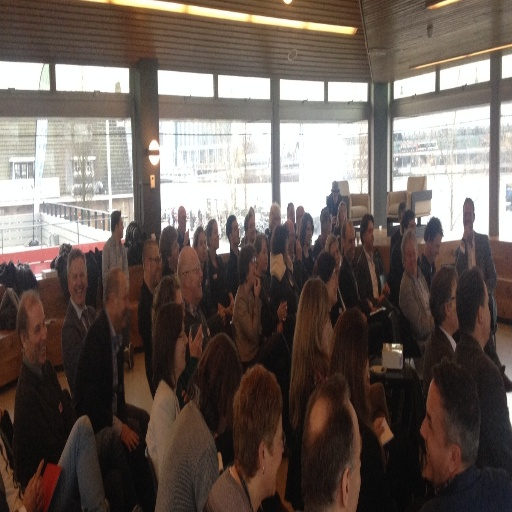hand: (21, 456, 45, 510), (189, 322, 203, 362), (120, 425, 139, 453), (373, 416, 384, 447), (34, 476, 44, 510), (462, 220, 473, 248), (277, 301, 287, 325), (253, 273, 261, 299), (217, 307, 226, 328), (381, 281, 391, 299), (295, 239, 302, 264), (286, 254, 294, 273), (180, 388, 188, 405), (227, 295, 233, 315), (183, 228, 190, 244), (376, 291, 385, 302), (225, 306, 231, 319)
